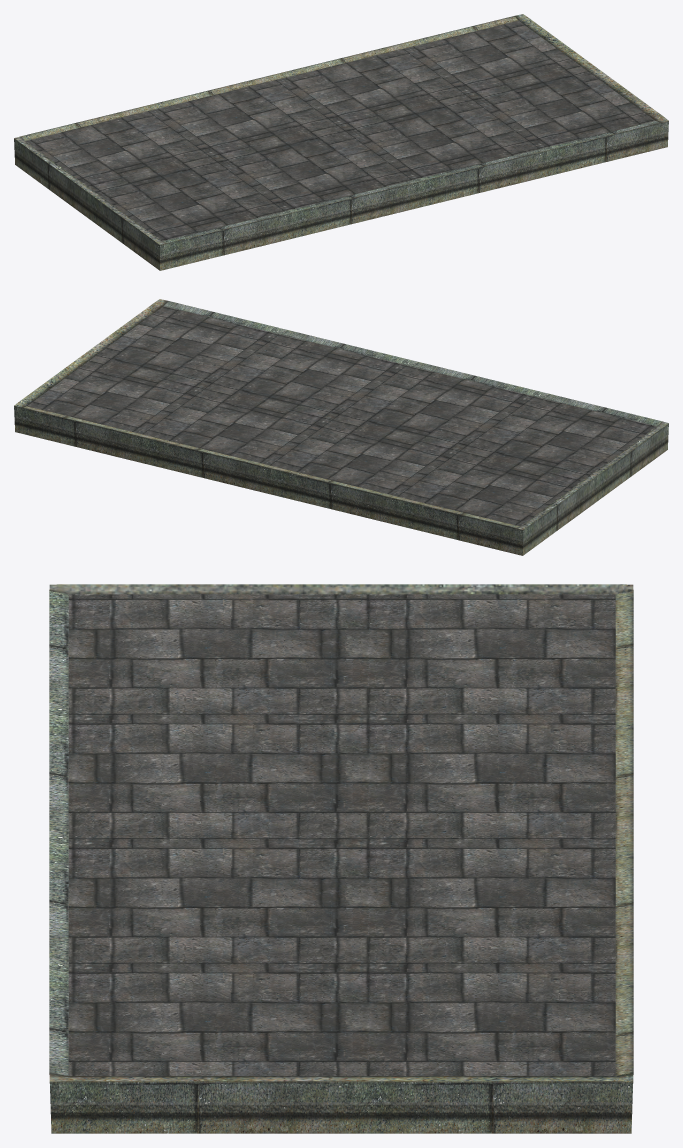
Rendered from Platform_lod.fbx.
The picture shows the model from 3 angles, top to bottom: view 1: azimuth 30°, elevation 25°; view 2: azimuth 150°, elevation 25°; view 3: azimuth 270°, elevation 25°; orthographic projection. The views are drawn at different scales.
Parts seen in each view (by area): view 1: Mesh Object; view 2: Mesh Object; view 3: Mesh Object.
Boxes of the visible parts, left/top/right/bottom form: Mesh Object: left=14, top=14, right=668, bottom=270; Mesh Object: left=14, top=299, right=668, bottom=555; Mesh Object: left=49, top=584, right=633, bottom=1133.
Size of the model in its own units: 7.99 by 0.399 by 3.97.
